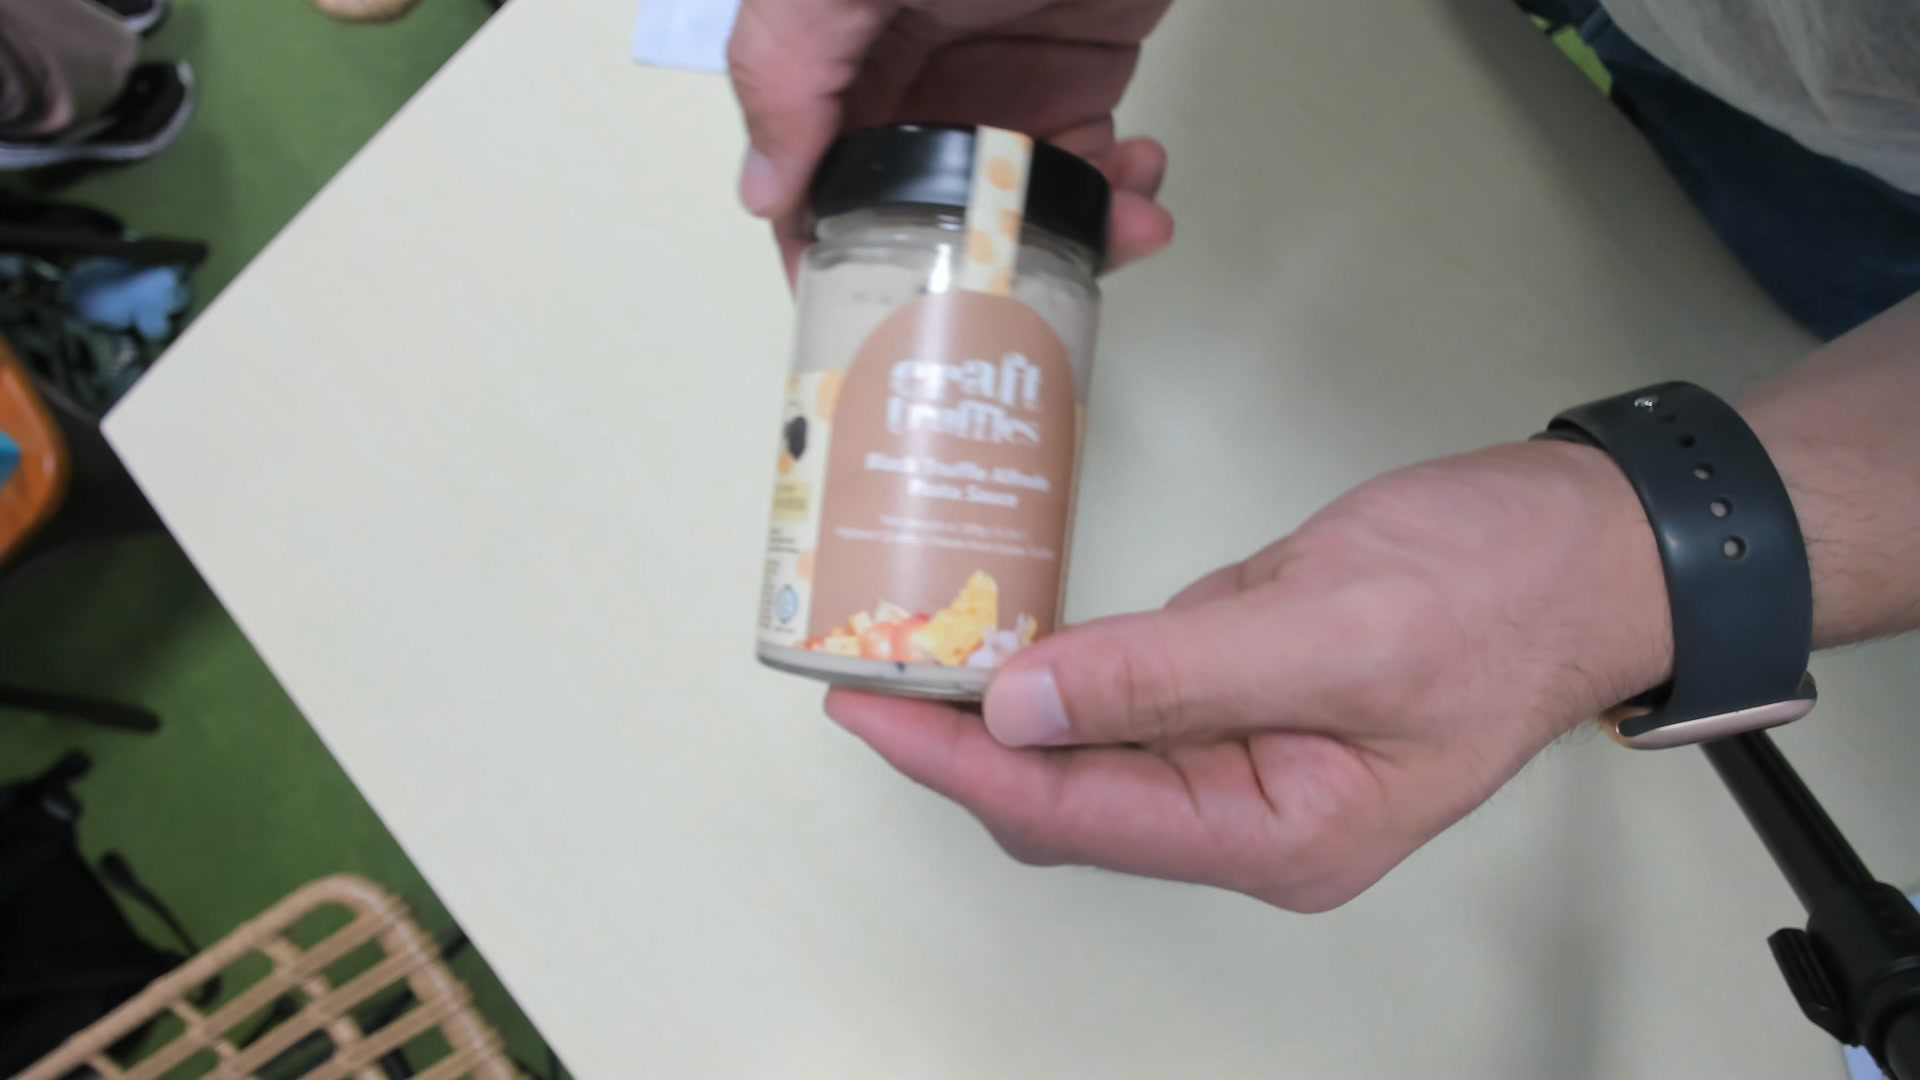PastaSauce_100-199g_Halal_NonHealthy: (749, 120, 1112, 709)
